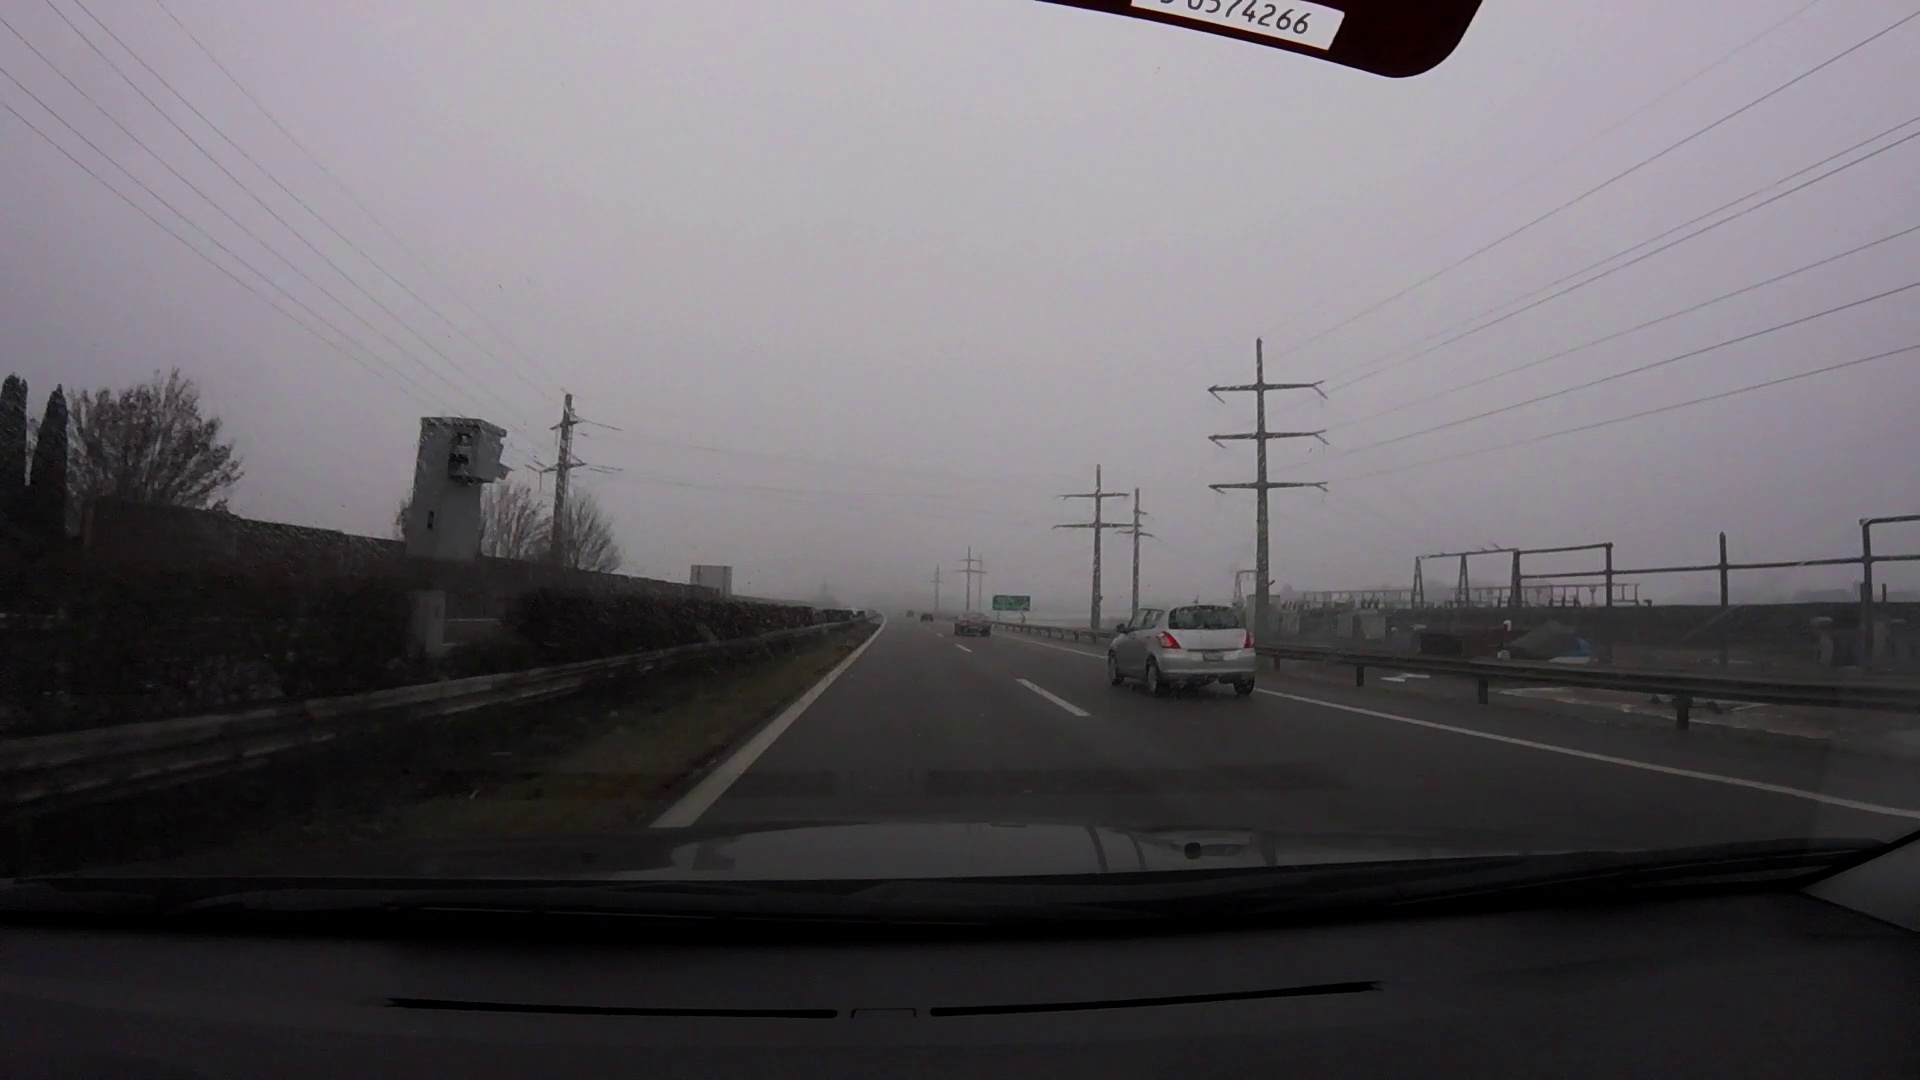radar: (400, 413, 516, 634)
